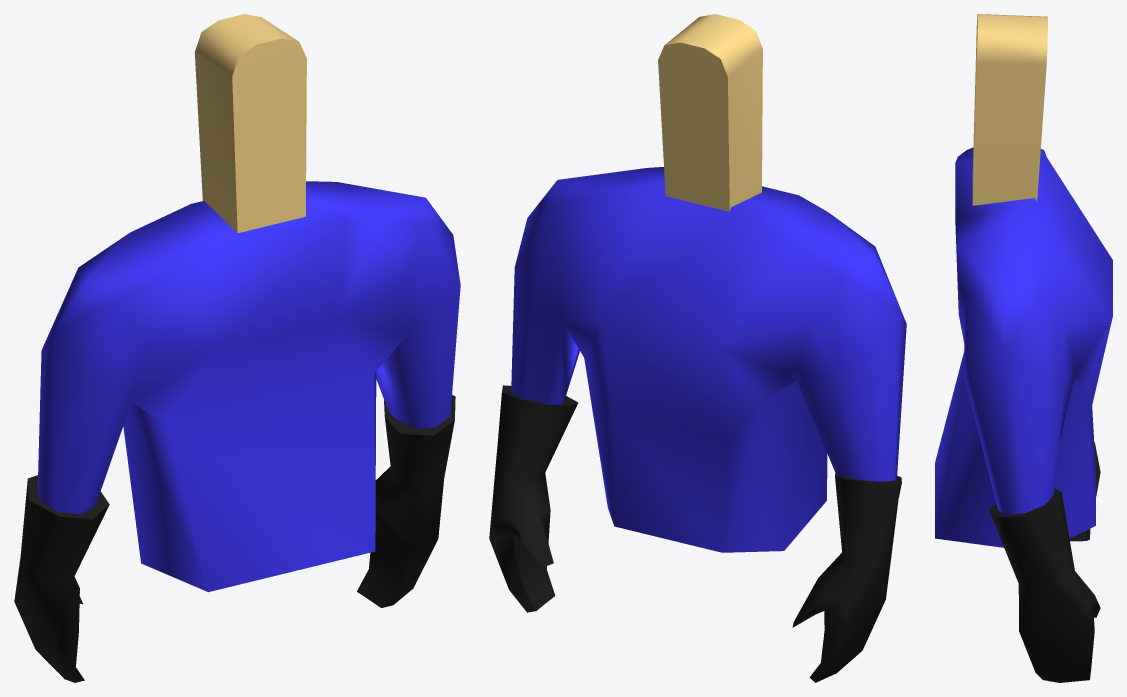
File: blueupper.glb
The picture shows the model from 3 angles, left to right: view 1: azimuth 30°, elevation 25°; view 2: azimuth 150°, elevation 25°; view 3: azimuth 270°, elevation 25°; orthographic projection. The views are drawn at different scales.
Visible parts, largest first — view 1: baseupper; view 2: baseupper; view 3: baseupper.
Boxes of the visible parts, x1,y1,x2,y2 form: baseupper: [14, 14, 460, 682]; baseupper: [489, 14, 906, 682]; baseupper: [935, 14, 1112, 682].
Bounding box in the file's own units: 0.5985 × 0.8454 × 0.2312.
Materials: 1 (1 with a texture image).
